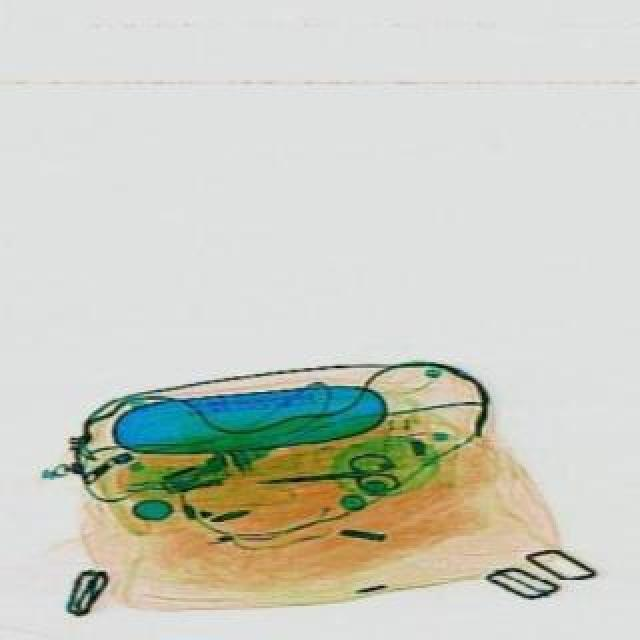pliers: (252, 448, 396, 500)
